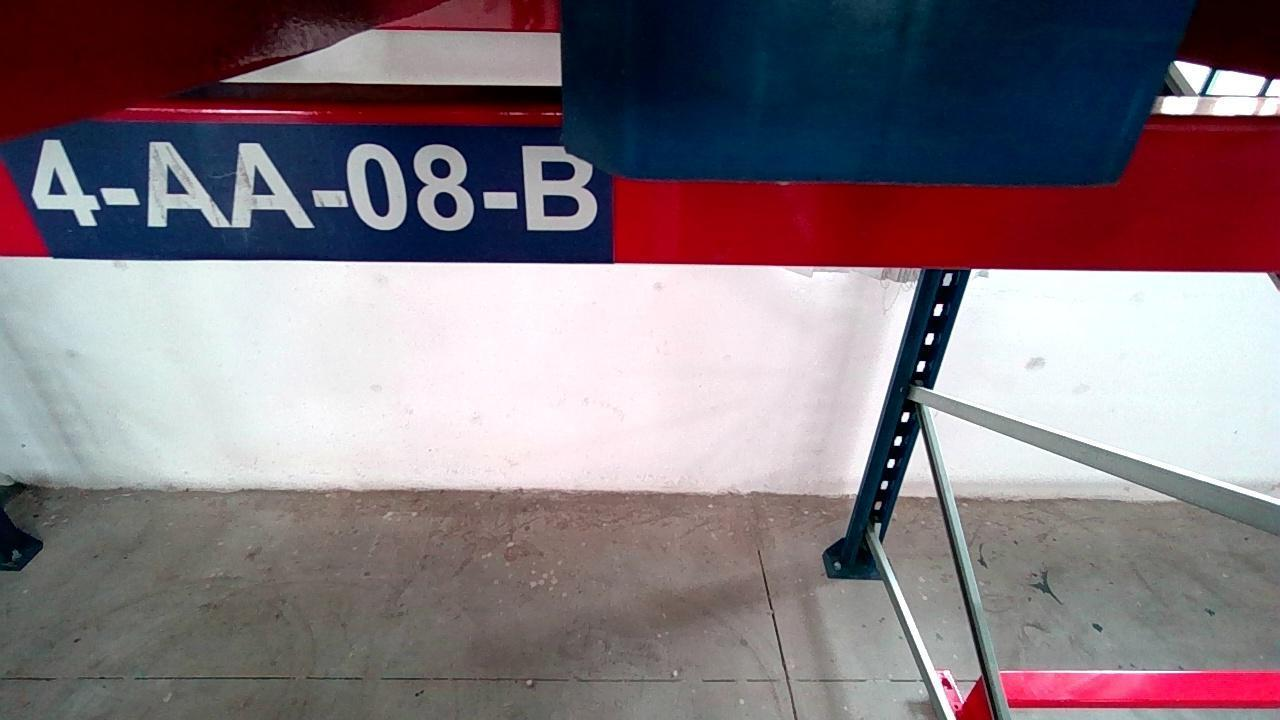h_rack: (0, 112, 1280, 271)
